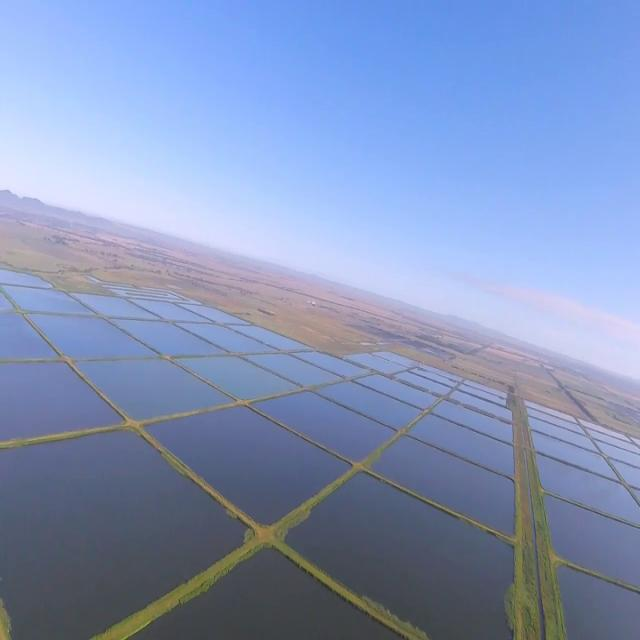iha: (299, 294, 321, 308)
